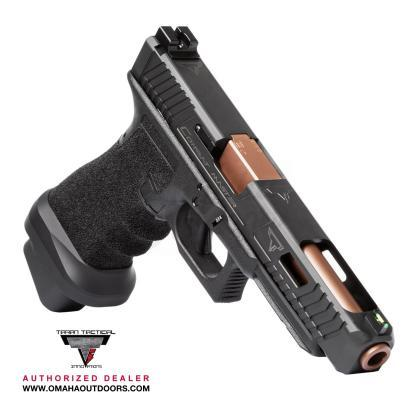Pistol: (23, 25, 396, 376)
